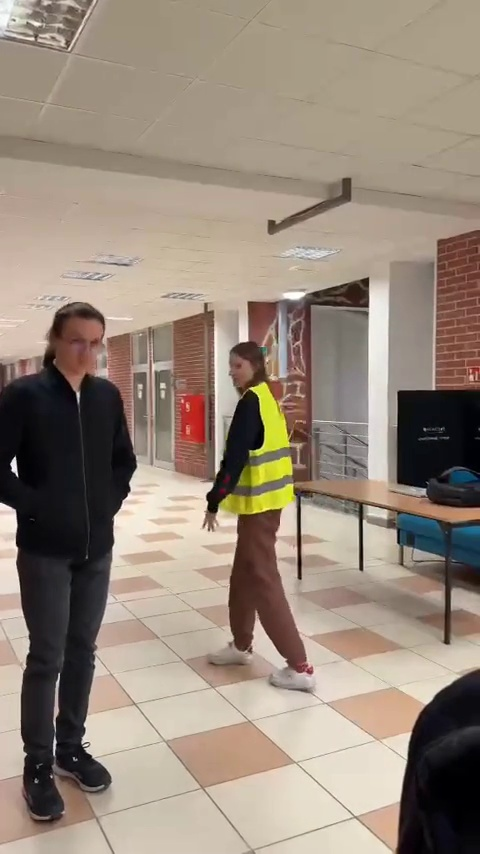no vest: (3, 301, 147, 831)
vest: (196, 334, 322, 688)
